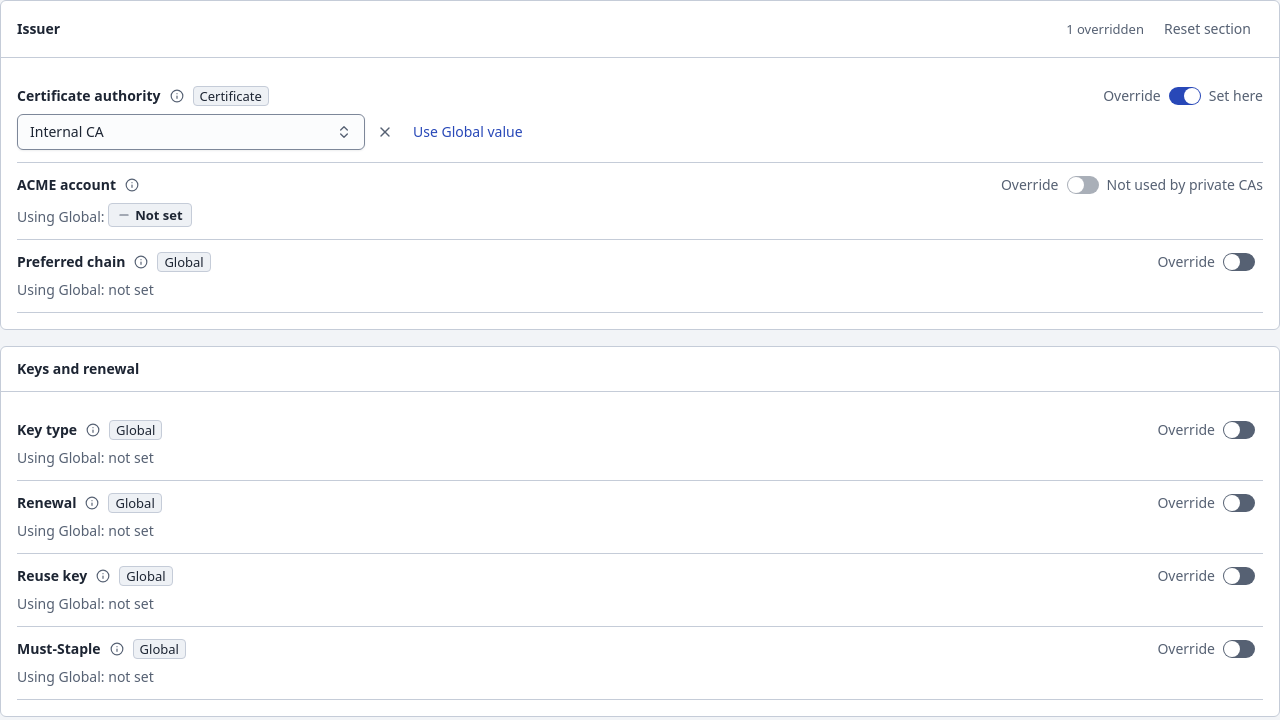
Scenario: IssuanceDefaultsForm disables the account field for a private effective CA › account disabled for private CA
This screenshot has width=1280, height=720.
Expected: the switch named "Override ACME account" is disabled, top-left (1066, 176), bottom-right (1098, 194)
Expected: the text "Not used by private CAs" is shown, top-left (1106, 175), bottom-right (1263, 195)
Click the button named "Help".
click(132, 185)  # box top-left (124, 177), bottom-right (140, 193)
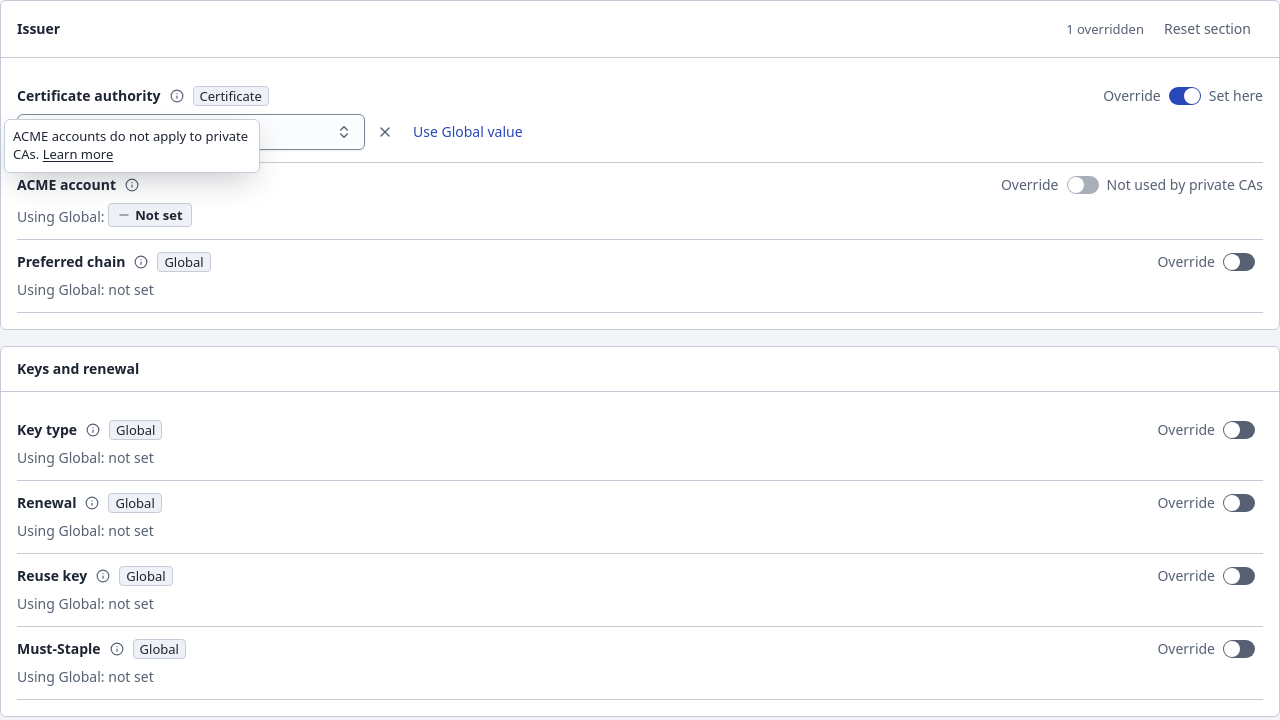
Expected: the dialog shows "ACME accounts do not apply to private CAs.", top-left (13, 127), bottom-right (248, 163)
